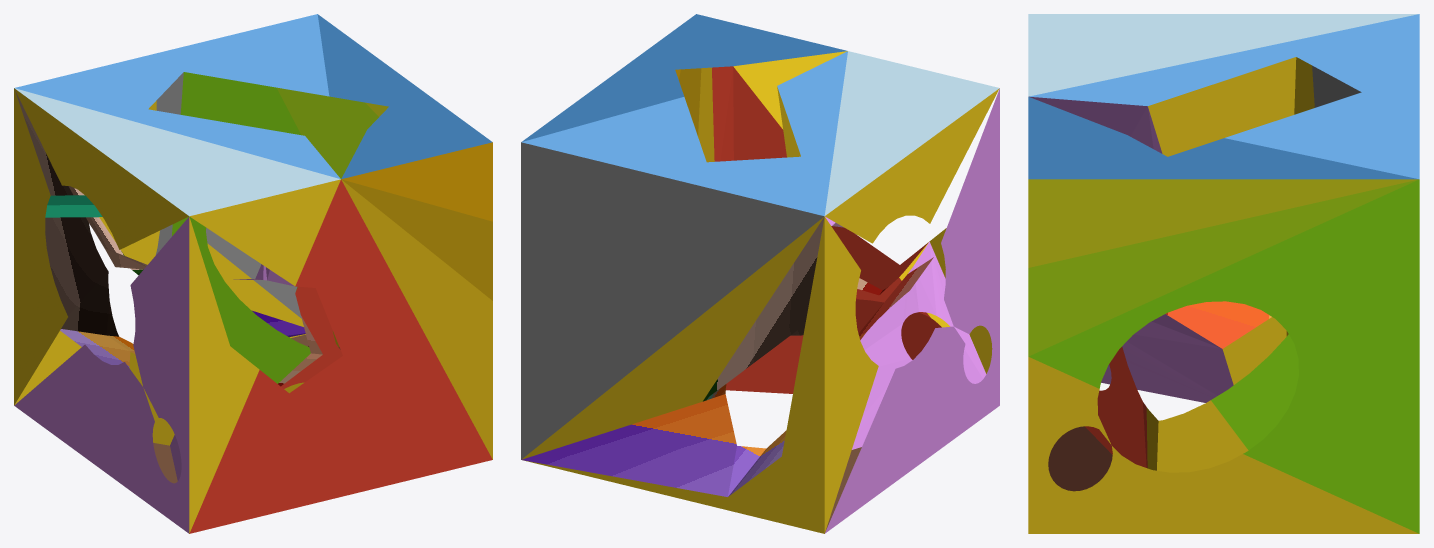
File: DefaultCubeWithAtypicalHoles.dae
The picture shows the model from 3 angles, left to right: view 1: azimuth 30°, elevation 25°; view 2: azimuth 150°, elevation 25°; view 3: azimuth 270°, elevation 25°; orthographic projection. The views are drawn at different scales.
Visible parts, largest first — view 1: Original; view 2: Original; view 3: Original.
Part boxes in pixels (bbox=[...]): Original: bbox=[14, 14, 492, 533]; Original: bbox=[521, 14, 999, 533]; Original: bbox=[1028, 14, 1419, 533].
Bounding box in the file's own units: 1 × 1 × 1.
1 material, 1 textured.
